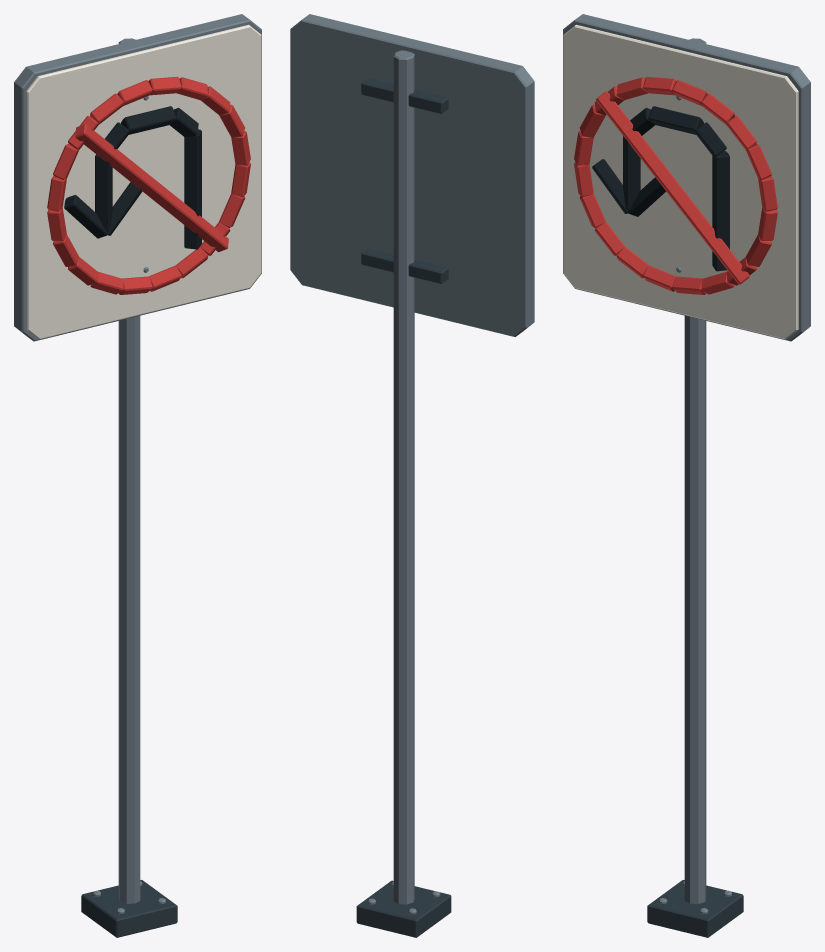
The model's file is b02_no_u_turn.glb.
The picture shows the model from 3 angles, left to right: view 1: azimuth 30°, elevation 25°; view 2: azimuth 150°, elevation 25°; view 3: azimuth 330°, elevation 25°; orthographic projection.
Parts seen in each view (by area): view 1: b02_no_u_turn; view 2: b02_no_u_turn; view 3: b02_no_u_turn.
Boxes of the visible parts, bbox=[...] form: b02_no_u_turn: bbox=[14, 14, 261, 937]; b02_no_u_turn: bbox=[290, 14, 534, 937]; b02_no_u_turn: bbox=[563, 14, 810, 937].
Size of the model in its own units: 0.7 by 2.45 by 0.2256.
